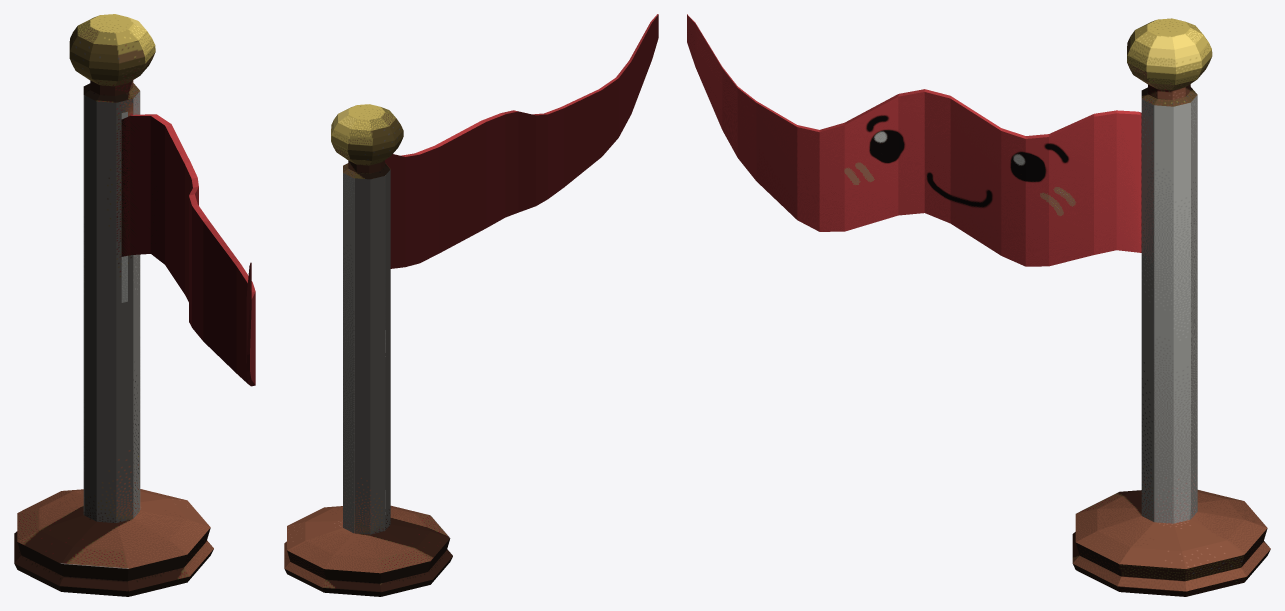
File: banderita.obj
The picture shows the model from 3 angles, left to right: view 1: azimuth 30°, elevation 25°; view 2: azimuth 150°, elevation 25°; view 3: azimuth 270°, elevation 25°; orthographic projection. The views are drawn at different scales.
Parts seen in each view (by area): view 1: Cylinder.001; view 2: Cylinder.001; view 3: Cylinder.001.
Boxes of the visible parts, box(x1,y1,x2,y2) form: Cylinder.001: box(14, 14, 255, 596); Cylinder.001: box(284, 14, 658, 596); Cylinder.001: box(687, 14, 1270, 596).
Size of the model in its own units: 7.7 by 20.47 by 20.52.
1 material, 1 textured.
